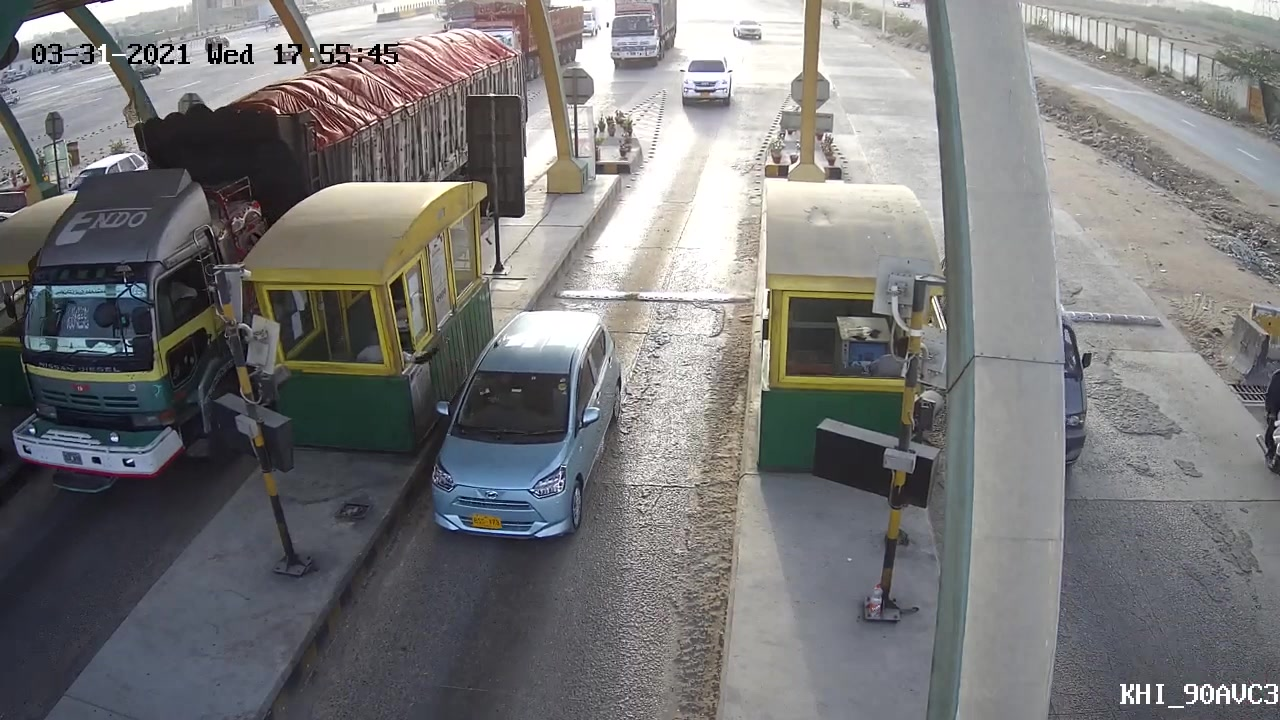F1: (402, 306, 630, 546)
